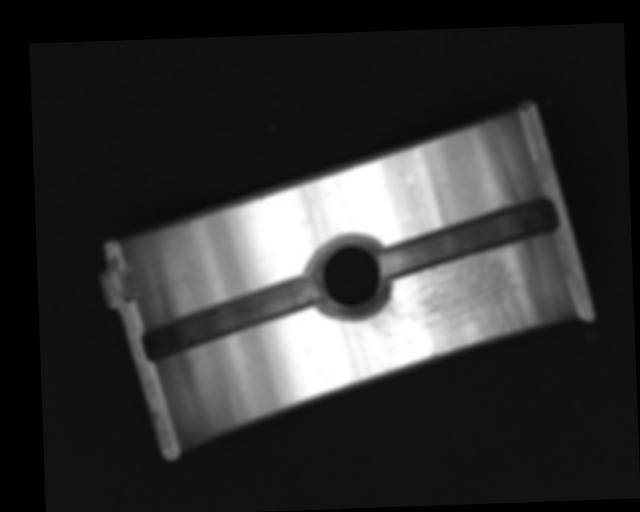gap: (139, 273, 322, 360), (374, 197, 561, 280)
hole: (305, 230, 393, 322)
scratch: (367, 236, 545, 376)
